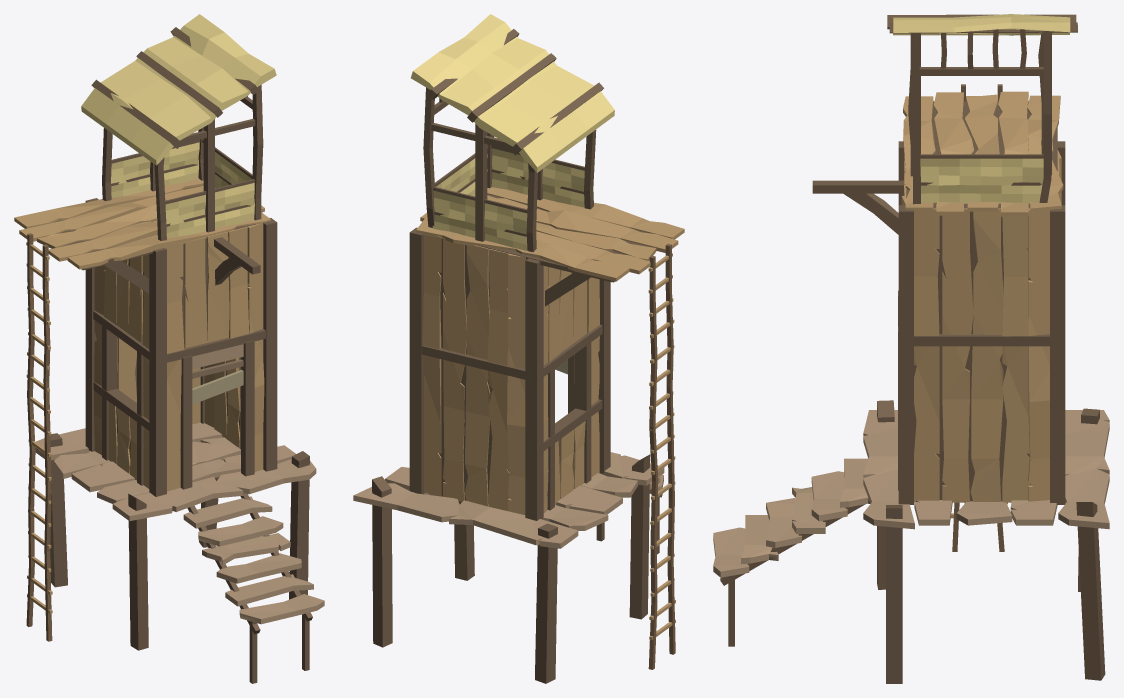
File: Hut_4.fbx
3 views of the same model, side by side, from view 1: azimuth 30°, elevation 25°; view 2: azimuth 150°, elevation 25°; view 3: azimuth 270°, elevation 25° (orthographic). The views are drawn at different scales.
Parts seen in each view (by area): view 1: Hut_4, Platform_6, Stairs_6, Stairs_1; view 2: Hut_4, Platform_6, Stairs_1; view 3: Hut_4, Platform_6, Stairs_6, Stairs_1.
Part boxes in pixels (x1=…): Hut_4: x1=14, y1=14, x2=277, y2=496; Platform_6: x1=35, y1=422, x2=316, y2=650; Stairs_6: x1=183, y1=493, x2=324, y2=683; Stairs_1: x1=26, y1=233, x2=52, y2=641; Hut_4: x1=409, y1=14, x2=684, y2=520; Platform_6: x1=353, y1=452, x2=664, y2=683; Stairs_1: x1=648, y1=243, x2=675, y2=669; Hut_4: x1=812, y1=14, x2=1077, y2=504; Platform_6: x1=863, y1=400, x2=1109, y2=683; Stairs_6: x1=713, y1=458, x2=870, y2=646; Stairs_1: x1=950, y1=84, x2=1004, y2=551.
Size of the model in its own units: 405 by 871 by 486.
Materials: 1 (1 with a texture image).
